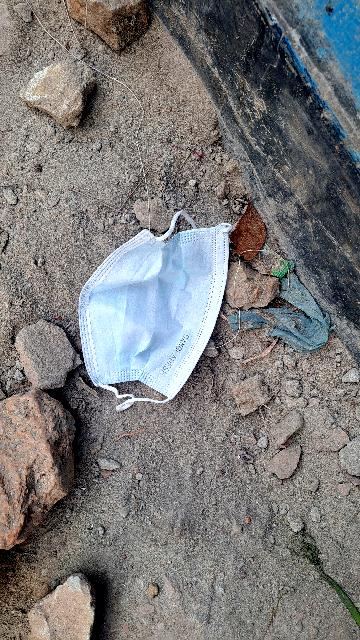mask: (57, 159, 268, 436)
